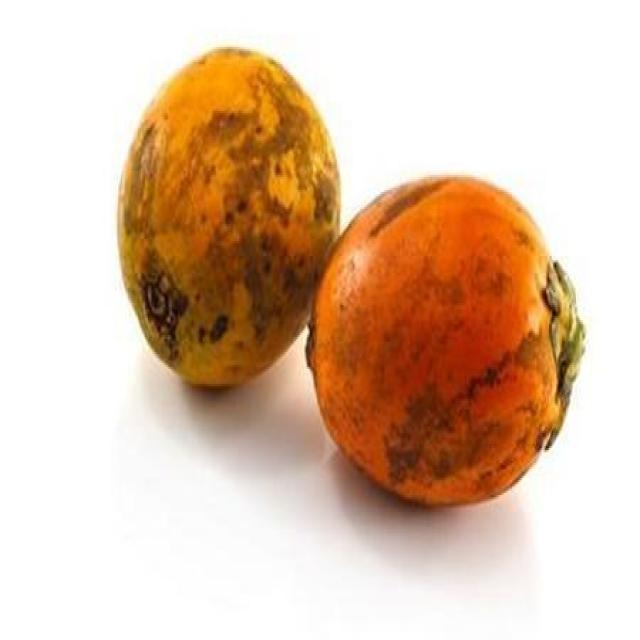good: (306, 177, 586, 510), (117, 47, 343, 390)
